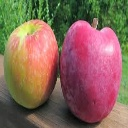apple: (60, 16, 123, 125)
